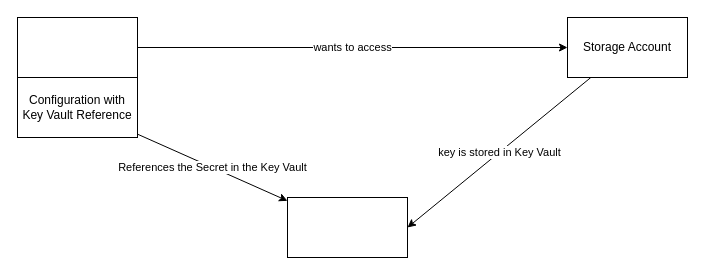
Some shapes in this 705 by 275 pixel diagram are drawn without their labels. The box of each missing label's shape, as (x1, y1, x2, y2) in pixels:
App Service: (16, 16, 138, 78)
Key Vault: (286, 196, 408, 258)
